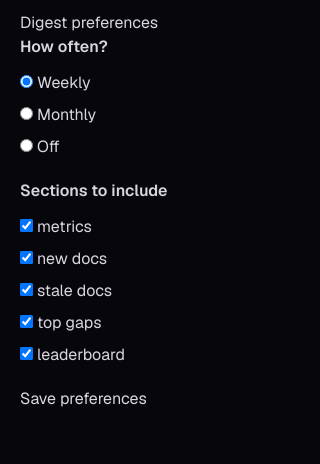
Test: DigestPreferences › saves and shows the success status
This screenshot has width=320, height=464.
Click the radio button with test id "digest-pref-frequency-monthly" at (26, 114), box [20,107,33,120]
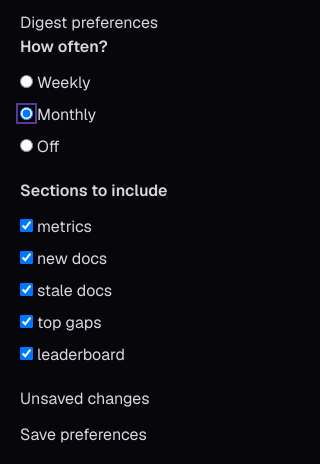
Click the button with test id "digest-pref-save" at (83, 435), box [20,423,147,447]
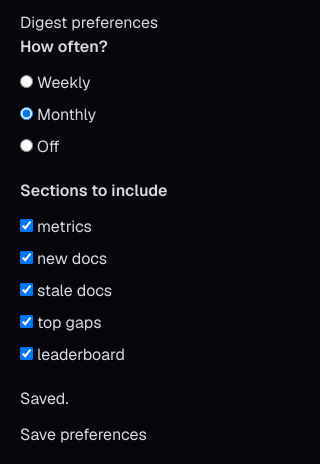
Result: the message "Saved." is shown at [20,388,68,409]
